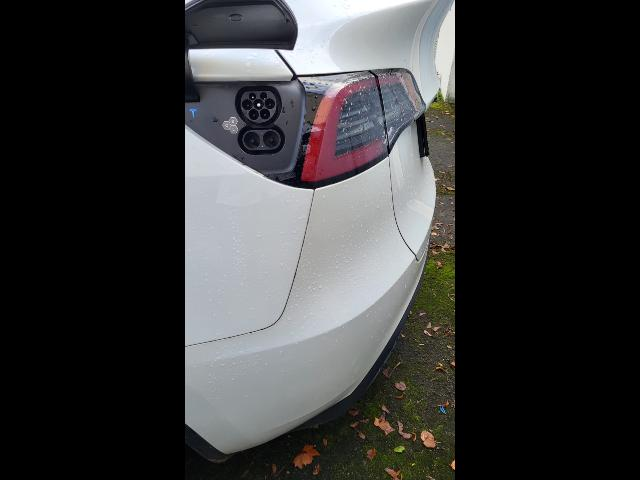inlet: (241, 91, 277, 123)
inlet-above-left: (249, 92, 256, 100)
inlet-above-right: (260, 92, 267, 100)
inlet-below-left: (248, 109, 259, 120)
inlet-below-right: (260, 108, 270, 119)
inlet-circle: (253, 99, 264, 110)
inlet-circle-left: (242, 99, 253, 110)
inlet-circle-right: (265, 98, 275, 109)
inlet-minus: (263, 131, 279, 148)
inlet-plus: (244, 132, 260, 149)
